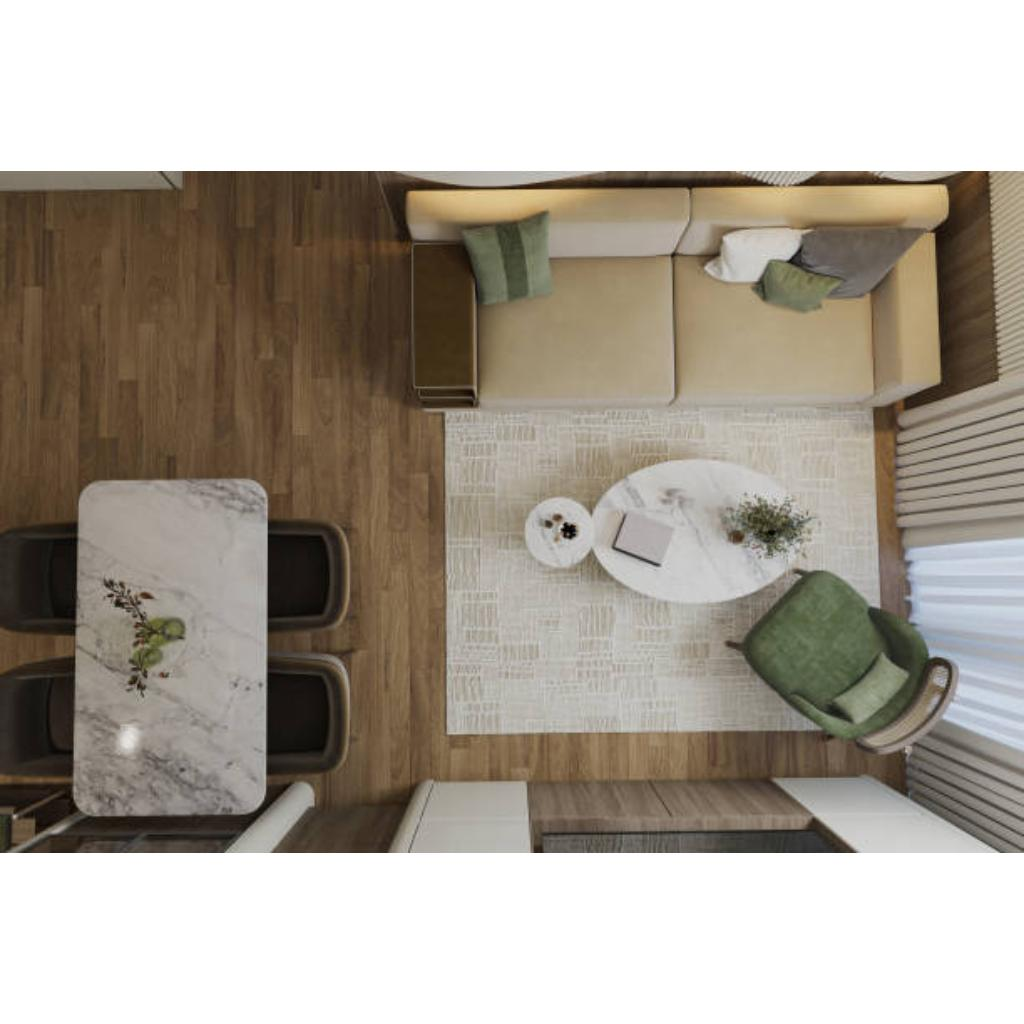TV stand: (396, 780, 1000, 850)
chair: (794, 601, 960, 757), (269, 655, 351, 775), (270, 519, 350, 637), (0, 657, 74, 781), (2, 522, 74, 636)
coffee table: (592, 460, 790, 596)
dining table: (73, 479, 267, 813)
rug: (446, 388, 882, 736)
side table: (526, 498, 590, 572)
sideboard: (0, 822, 274, 852)
sofa: (407, 188, 947, 410)
window: (1008, 534, 1022, 758)
